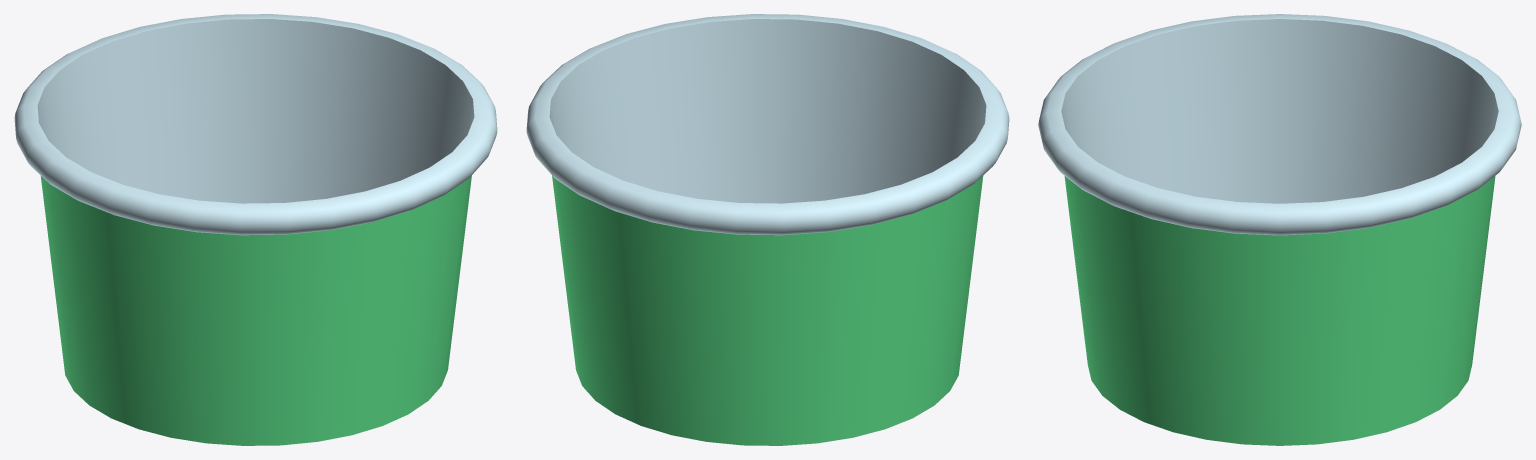
Rendered from Cup Ice Cream E.fbx.
3 renders of one model, left to right at view 1: azimuth 30°, elevation 25°; view 2: azimuth 150°, elevation 25°; view 3: azimuth 270°, elevation 25°, orthographic.
Parts seen in each view (by area): view 1: Cup Ice Cream E; view 2: Cup Ice Cream E; view 3: Cup Ice Cream E.
Boxes of the visible parts, bbox=[...] form: Cup Ice Cream E: bbox=[14, 14, 497, 445]; Cup Ice Cream E: bbox=[526, 14, 1009, 445]; Cup Ice Cream E: bbox=[1038, 14, 1521, 445].
Size of the model in its own units: 0.7274 by 0.4205 by 0.7274.
